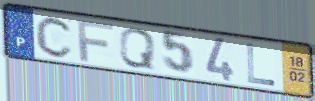4: (203, 35, 236, 84)
5: (159, 28, 198, 79)
C: (34, 15, 75, 59)
F: (75, 18, 115, 63)
L: (245, 42, 278, 88)
Q: (118, 27, 157, 71)
